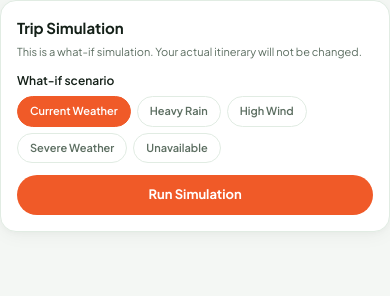
Test: SimulationCard › shows unauthorized message for 401
The width and height of the screenshot is (390, 296).
What coordinates should you click on to do the following:
click the button "Run Simulation"
I would click on:
 (195, 195)
Its box is left=17, top=175, right=373, bottom=214.
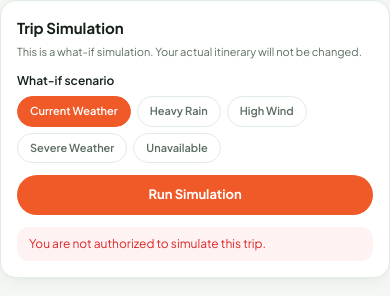
Expected: the text "You are not authorized to simulate this trip." is shown, left=17, top=226, right=373, bottom=260
